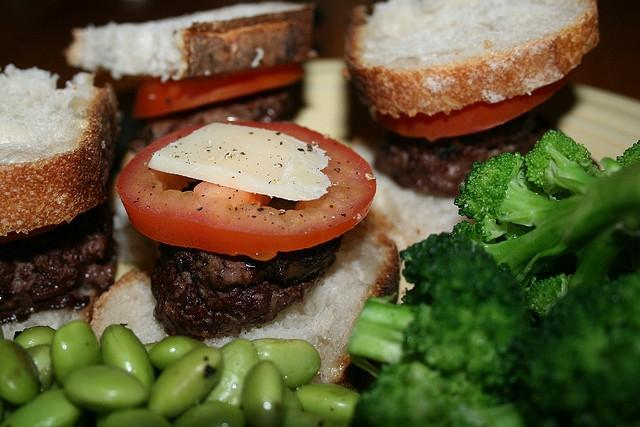broccoli: (347, 236, 538, 406), (506, 222, 640, 426), (348, 360, 524, 427), (454, 151, 560, 241), (524, 130, 599, 196), (525, 272, 574, 320)
tomato: (116, 120, 376, 262), (377, 74, 570, 143), (134, 64, 306, 118)
